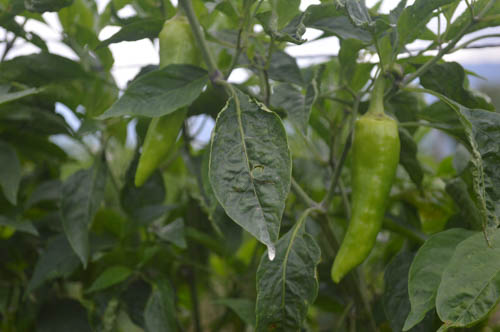ChiliPepper: (132, 17, 207, 199), (332, 117, 400, 290)
